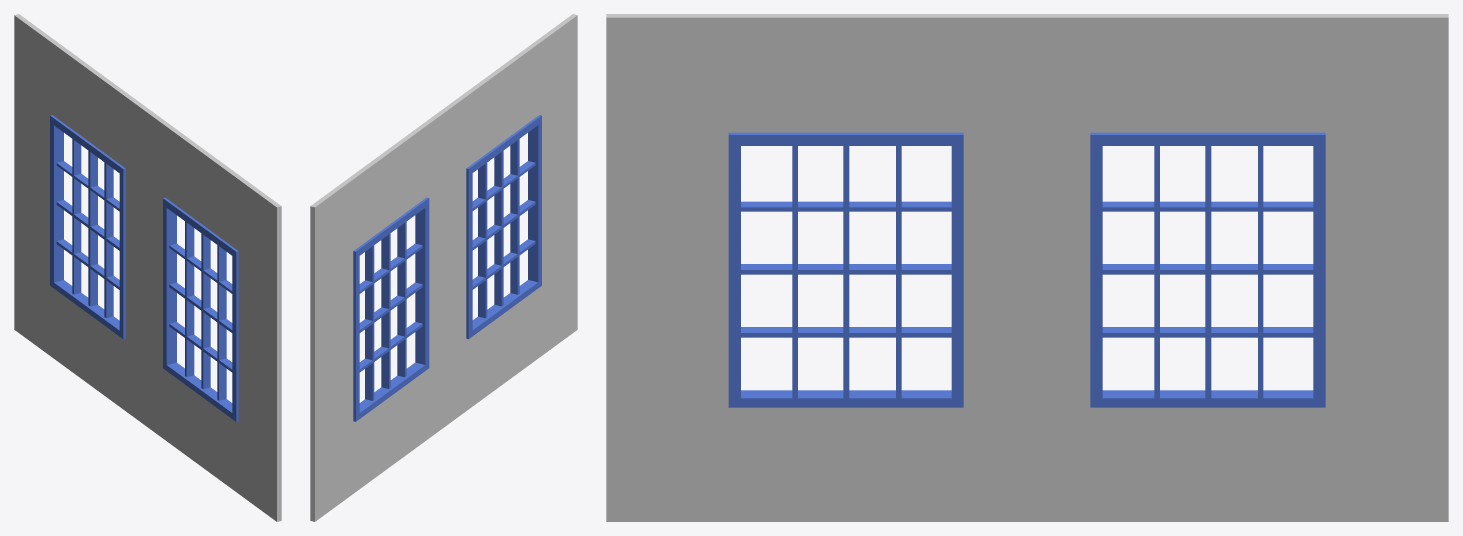
The model's file is wall.glb.
3 renders of one model, left to right at view 1: azimuth 30°, elevation 25°; view 2: azimuth 150°, elevation 25°; view 3: azimuth 270°, elevation 25°, orthographic. The views are drawn at different scales.
Visible parts, largest first — view 1: Cube.018, Cube.010, Cube.017; view 2: Cube.018, Cube.010, Cube.017; view 3: Cube.018, Cube.010, Cube.017.
Boxes of the visible parts, x1,y1,x2,y2 form: Cube.018: [14, 14, 281, 521]; Cube.010: [50, 115, 125, 339]; Cube.017: [163, 197, 238, 421]; Cube.018: [310, 14, 577, 521]; Cube.010: [353, 197, 429, 421]; Cube.017: [466, 115, 541, 339]; Cube.018: [606, 14, 1448, 521]; Cube.010: [1090, 132, 1325, 407]; Cube.017: [728, 132, 963, 407].
Size of the model in its own units: 0.1797 by 5.27 by 7.98.
